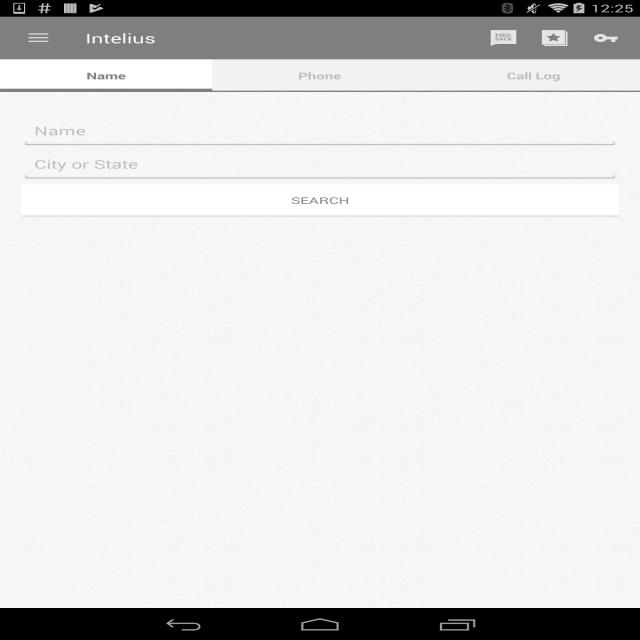Button: (21, 184, 619, 217)
EditText: (21, 114, 619, 148), (21, 148, 619, 181)
ImageButton: (9, 17, 68, 59)
ImageView: (0, 17, 640, 608)
TextView: (580, 22, 632, 54), (478, 22, 529, 54), (529, 22, 580, 54), (85, 29, 156, 47), (506, 69, 560, 82), (298, 69, 341, 82), (86, 69, 126, 82)
